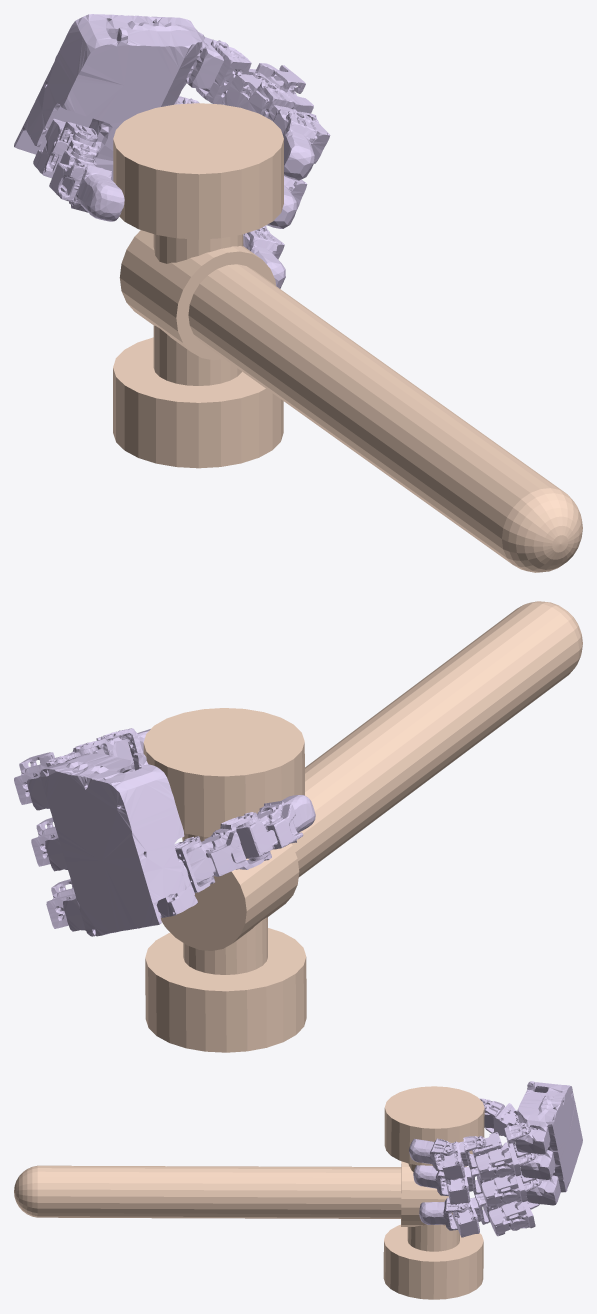
File: be6761b255cbde-final.glb
The picture shows the model from 3 angles, top to bottom: view 1: azimuth 30°, elevation 25°; view 2: azimuth 150°, elevation 25°; view 3: azimuth 270°, elevation 25°; orthographic projection. The views are drawn at different scales.
Parts seen in each view (by area): view 1: world, LEAP_hand; view 2: world, LEAP_hand; view 3: world, LEAP_hand.
Part boxes in pixels (x1,y1,x2,y2): world: [113, 103, 582, 572]; LEAP_hand: [14, 14, 330, 288]; world: [143, 601, 582, 1052]; LEAP_hand: [14, 728, 315, 936]; world: [14, 1086, 484, 1299]; LEAP_hand: [409, 1081, 582, 1237].
Size of the model in its own units: 0.2055 by 0.2515 by 0.6501.
